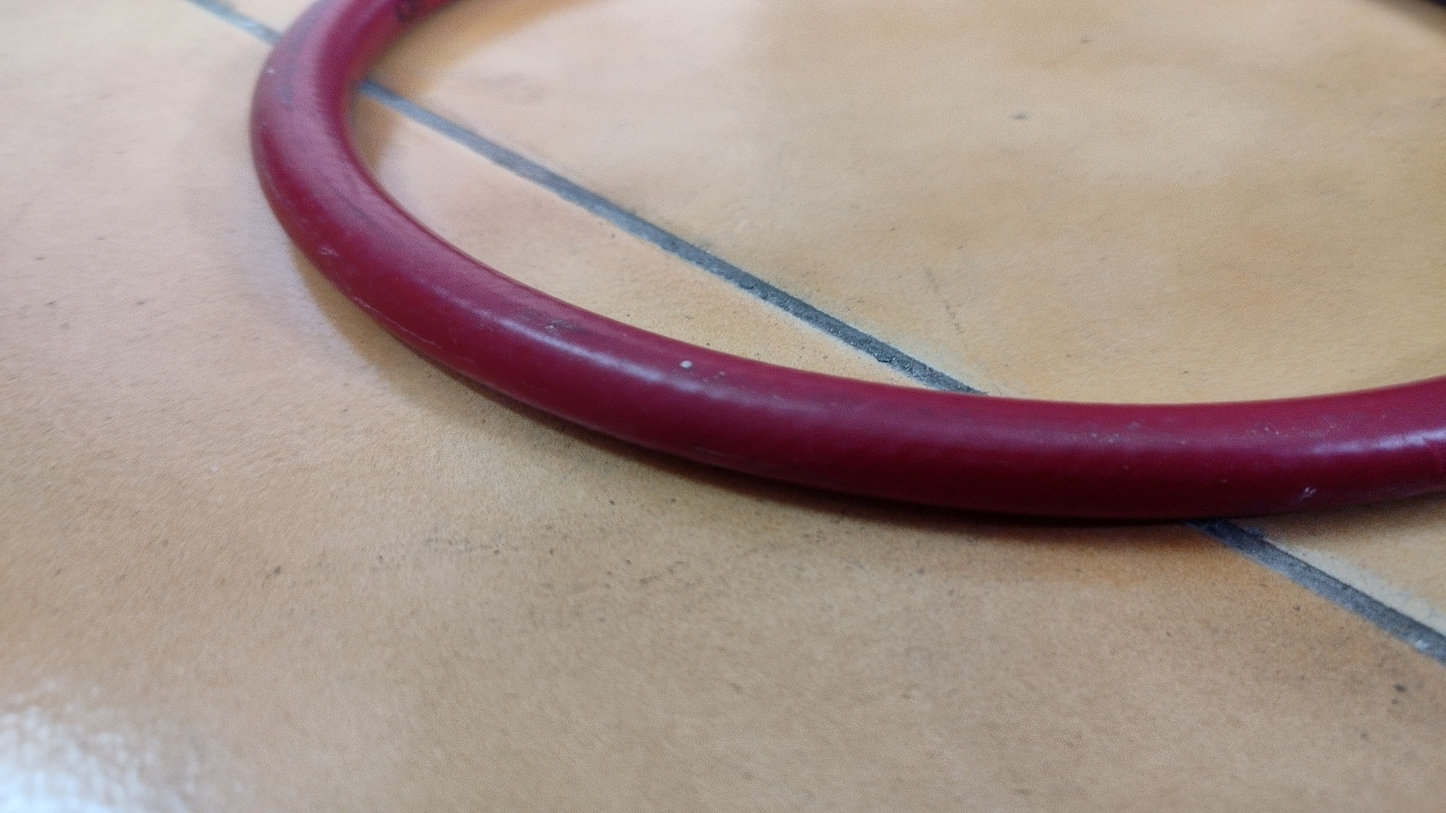Red ring: (241, 3, 1446, 511)
